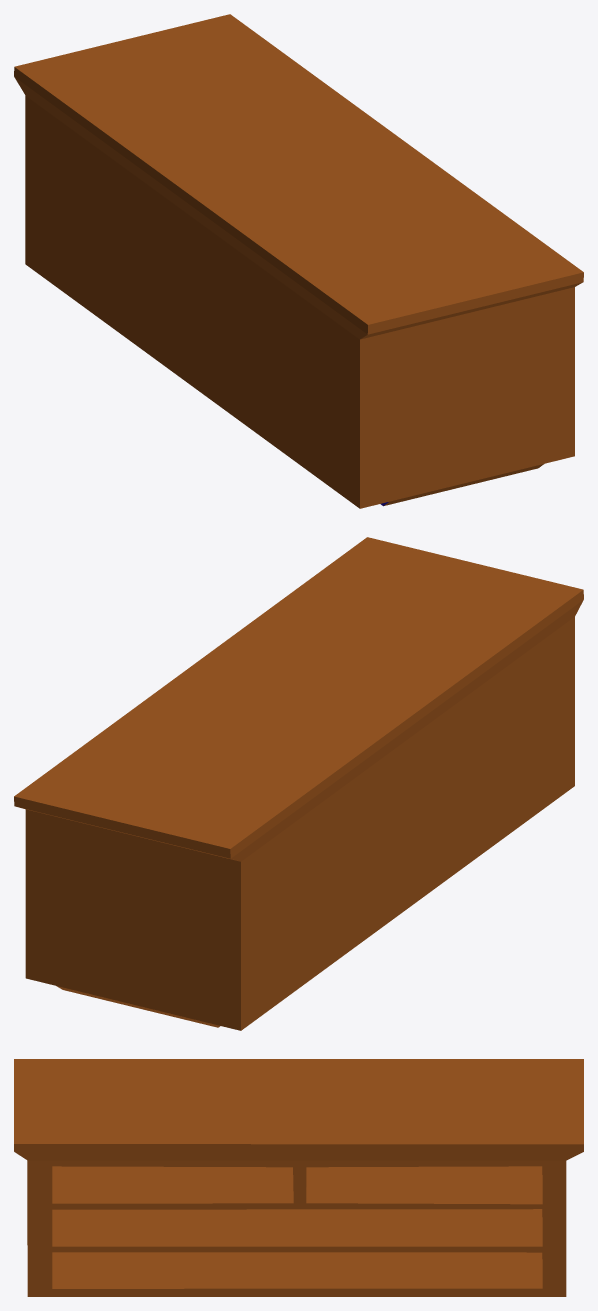
File: MesaAuxiliar.fbx
The picture shows the model from 3 angles, top to bottom: view 1: azimuth 30°, elevation 25°; view 2: azimuth 150°, elevation 25°; view 3: azimuth 270°, elevation 25°; orthographic projection. The views are drawn at different scales.
Parts seen in each view (by area): view 1: Cube.027; view 2: Cube.027; view 3: Cube.027.
Boxes of the visible parts, bbox=[...] form: Cube.027: bbox=[14, 14, 583, 508]; Cube.027: bbox=[14, 537, 583, 1030]; Cube.027: bbox=[14, 1059, 583, 1296].
Size of the model in its own units: 0.4489 by 0.395 by 1.27.
